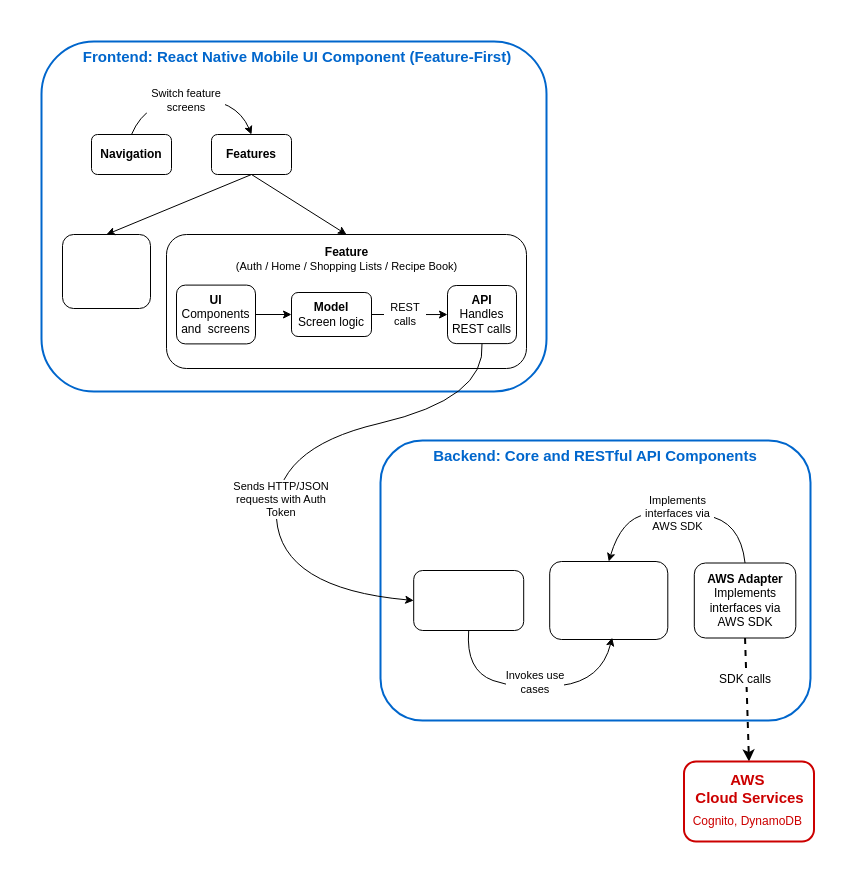
Some shapes in this 855 by 880 pixel diagram are drawn without their labels. The centre of each missing label's shape, as x and y in pixels:
API Controllers, DTO; Maps HTTP↔DTO: pixel 468 600
Engine Use Cases, Domain; Defines rules and interfaces: pixel 608 600
Shared Reusable components and utilities: pixel 106 271
